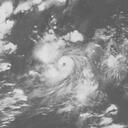cyclone: (35, 38, 92, 98)
